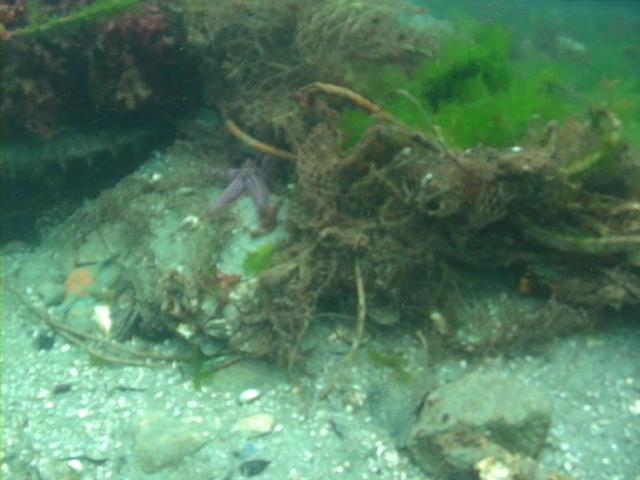fish net: (292, 0, 367, 56), (295, 122, 344, 205), (472, 179, 509, 223)
